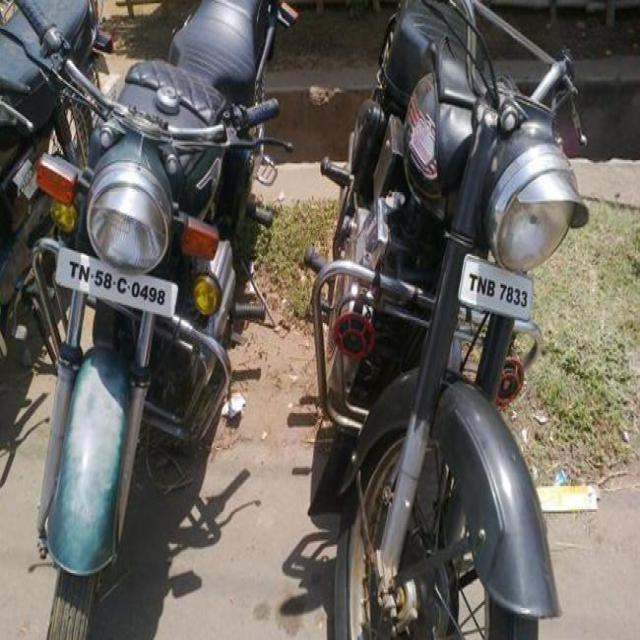number plate: (457, 252, 534, 322)
